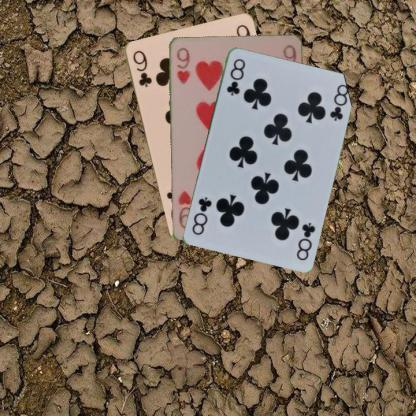8c: (294, 219, 316, 262), (224, 56, 246, 97)
9c: (130, 47, 153, 88)
9h: (174, 44, 191, 86)
